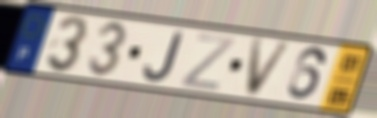3: (40, 14, 93, 74), (86, 20, 130, 79)
6: (286, 45, 330, 104)
J: (142, 30, 186, 84)
V: (244, 37, 296, 99)
Z: (177, 32, 237, 93)
